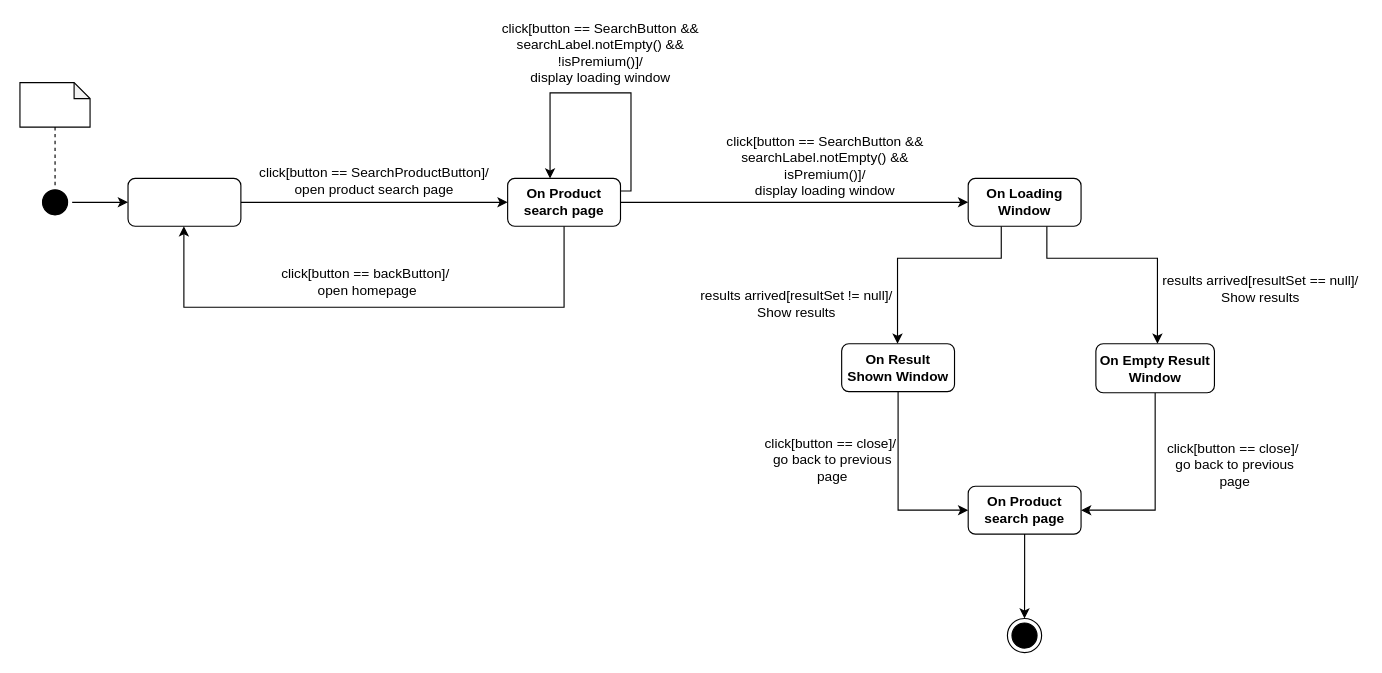
Some shapes in this 1382 by 673 pixel diagram are drawn without their labels. Here are the shapes that lost their labels. From the top down, the box of each, then its label:
(19, 82, 90, 127): Search Product
(127, 177, 241, 226): On homepage
